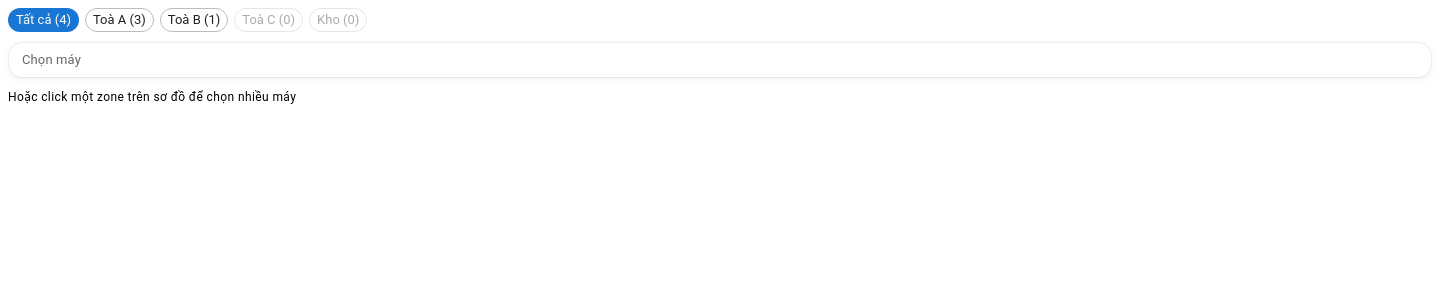
it: MachinePicker › searching opens every group with results
The width and height of the screenshot is (1440, 282).
Press the mouse on the dropdown labelled "Chọn máy" at (718, 60), box x1=14 y1=51 x2=1423 y2=69
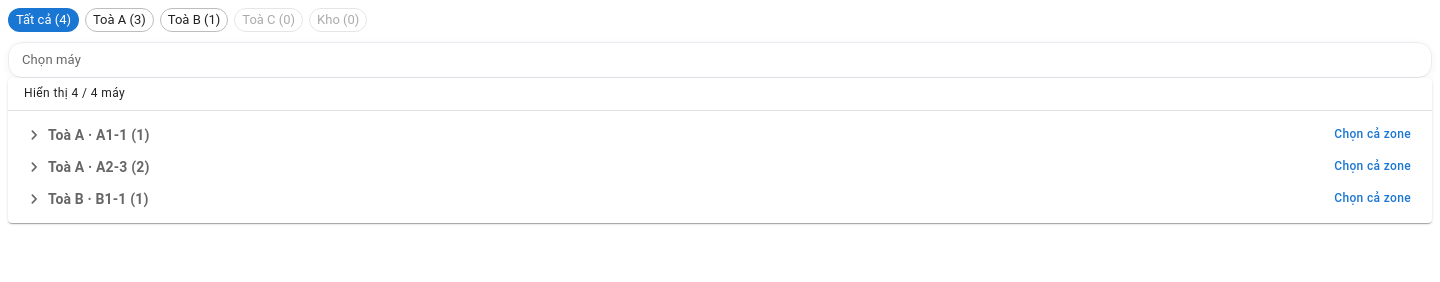
Type "tien" into the dropdown labelled "Chọn máy" at (718, 60), box x1=14 y1=51 x2=1423 y2=69
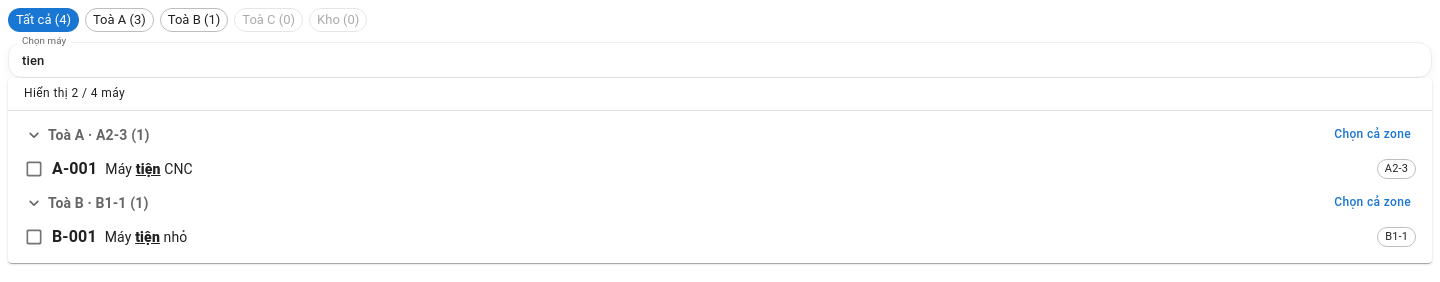
Result: the button "Toà A · A2-3 (1) Chọn cả zone" is expanded at x1=8 y1=119 x2=1432 y2=151
